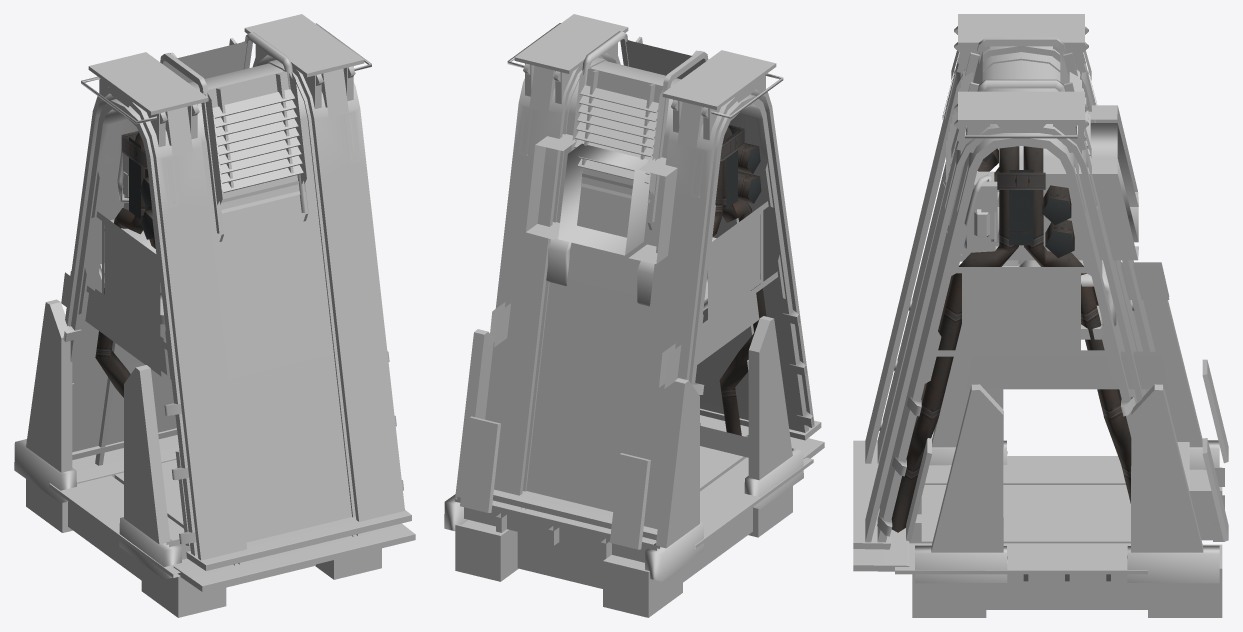
The model's file is Radiator_Big_L3.fbx.
3 renders of one model, left to right at view 1: azimuth 30°, elevation 25°; view 2: azimuth 150°, elevation 25°; view 3: azimuth 270°, elevation 25°, orthographic. The views are drawn at different scales.
Visible parts, largest first — view 1: Element3, Element4, Element5, Element2, Element1; view 2: Element3, Element4, Element5, Element2, Element1; view 3: Element4, Element3, Element2, Element5, Element1.
Boxes of the visible parts, x1,y1,x2,y2 form: Element3: (49,50,415,591); Element4: (14,14,381,617); Element5: (63,32,403,565); Element2: (95,131,155,397); Element1: (105,226,157,335); Element3: (485,48,824,548); Element4: (444,14,803,617); Element5: (521,31,813,509); Element2: (712,125,766,435); Element1: (710,215,760,319); Element4: (906,14,1228,617); Element3: (853,46,1189,574); Element2: (891,146,1131,532); Element5: (877,37,1135,536); Element1: (966,239,1075,350).
Size of the model in its own units: 604 by 1220 by 818.
